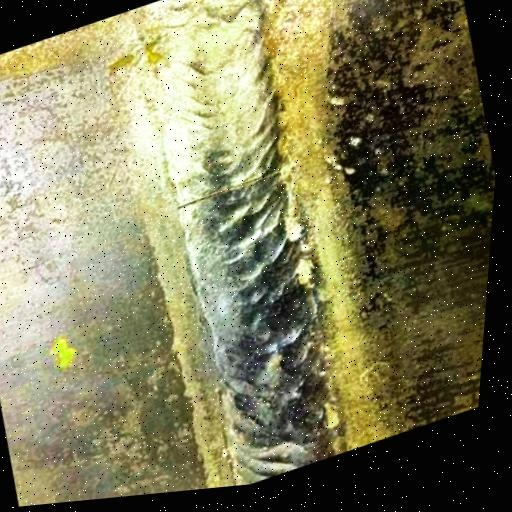crack: (168, 149, 299, 229)
